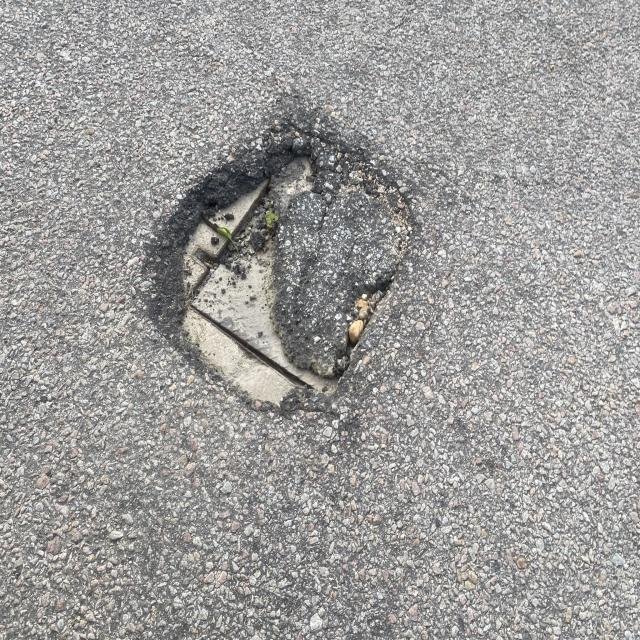Pothole: (121, 67, 421, 469)
